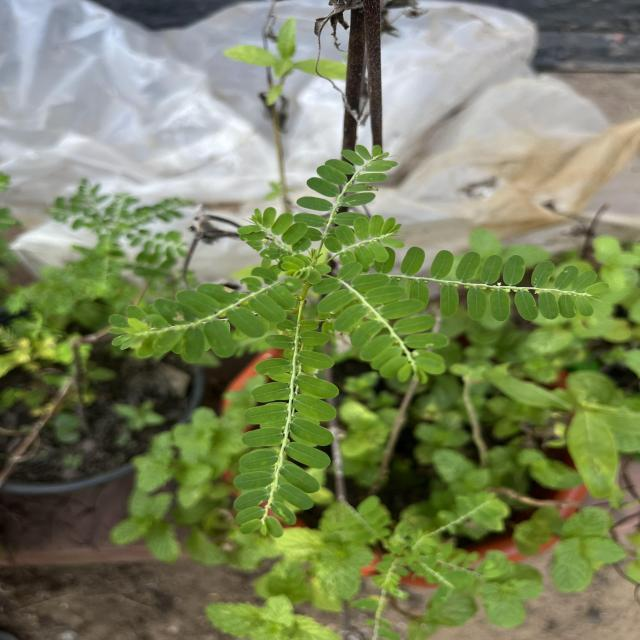Phyllanthus niruri: (231, 306, 342, 542), (390, 239, 612, 323), (310, 260, 450, 386), (133, 268, 302, 363), (290, 142, 402, 246), (322, 213, 403, 268), (234, 204, 313, 260)
